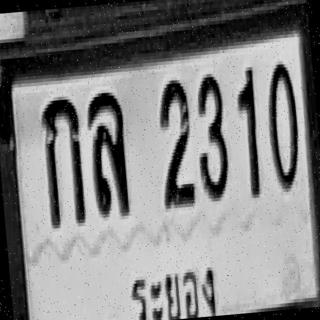A01: (39, 94, 88, 227)
A36: (85, 88, 130, 215)
N00: (263, 60, 302, 189)
N01: (233, 65, 263, 197)
N02: (154, 76, 196, 205)
N03: (192, 72, 231, 200)
P53: (128, 258, 224, 320)
